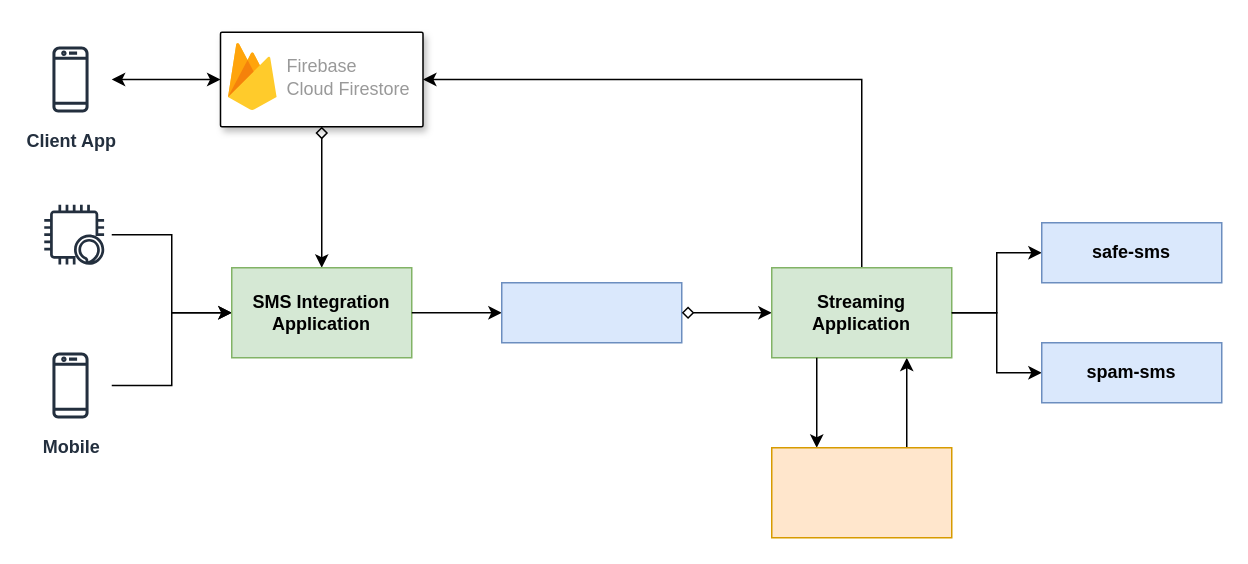
Some shapes in this 1248 by 564 pixel diagram are drawn without their labels. Here are the shapes that lost their labels. From the top down, the centre of each, then its label:
At [73,234]: "IoT-device".
At [591,312]: "new-sms".
At [861,492]: "Trained Deep Learning Model".
